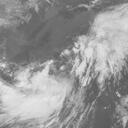cyclone: (34, 42, 103, 103)
